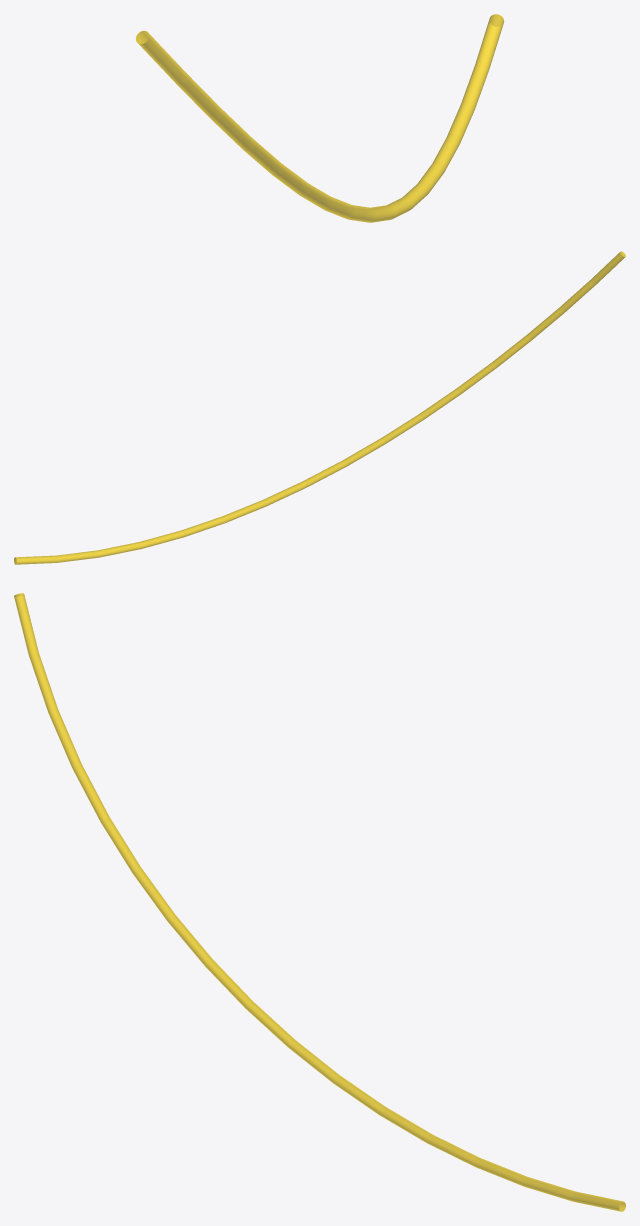
Rendered from Event_419990632_track_7.fbx.
3 views of the same model, one above another, from view 1: azimuth 30°, elevation 25°; view 2: azimuth 150°, elevation 25°; view 3: azimuth 270°, elevation 25° (orthographic). The views are drawn at different scales.
Visible parts, largest first — view 1: Model; view 2: Model; view 3: Model.
Boxes of the visible parts, bbox=[...] form: Model: bbox=[136, 14, 504, 222]; Model: bbox=[14, 251, 625, 564]; Model: bbox=[14, 593, 625, 1211].
Size of the model in its own units: 2.45 by 1.51 by 2.33.
